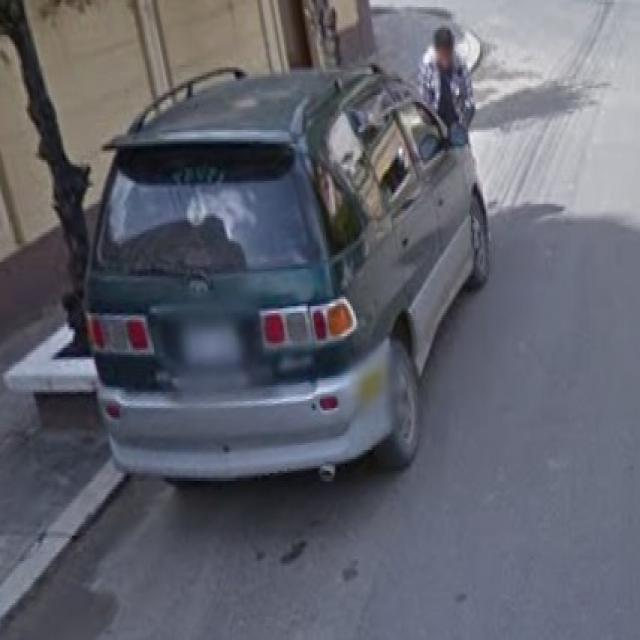Car: (107, 81, 485, 497)
